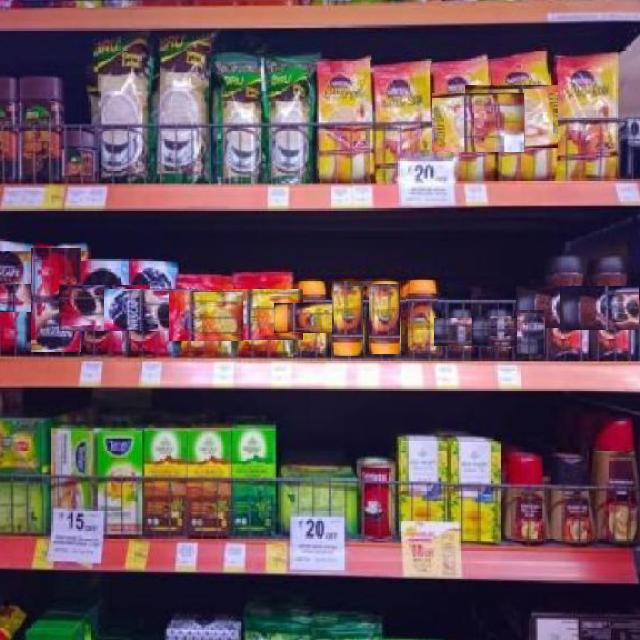Coffee: (464, 86, 587, 148), (559, 59, 617, 179), (407, 93, 524, 152), (375, 64, 432, 181), (319, 60, 375, 179), (31, 248, 81, 352), (517, 285, 621, 328), (221, 288, 303, 340), (58, 285, 150, 331), (105, 289, 198, 331), (170, 290, 243, 341), (561, 285, 640, 330), (331, 280, 363, 356), (406, 281, 438, 352), (275, 302, 347, 333), (369, 283, 400, 354), (0, 284, 69, 312), (513, 309, 545, 354), (472, 316, 517, 347), (434, 317, 477, 346)
